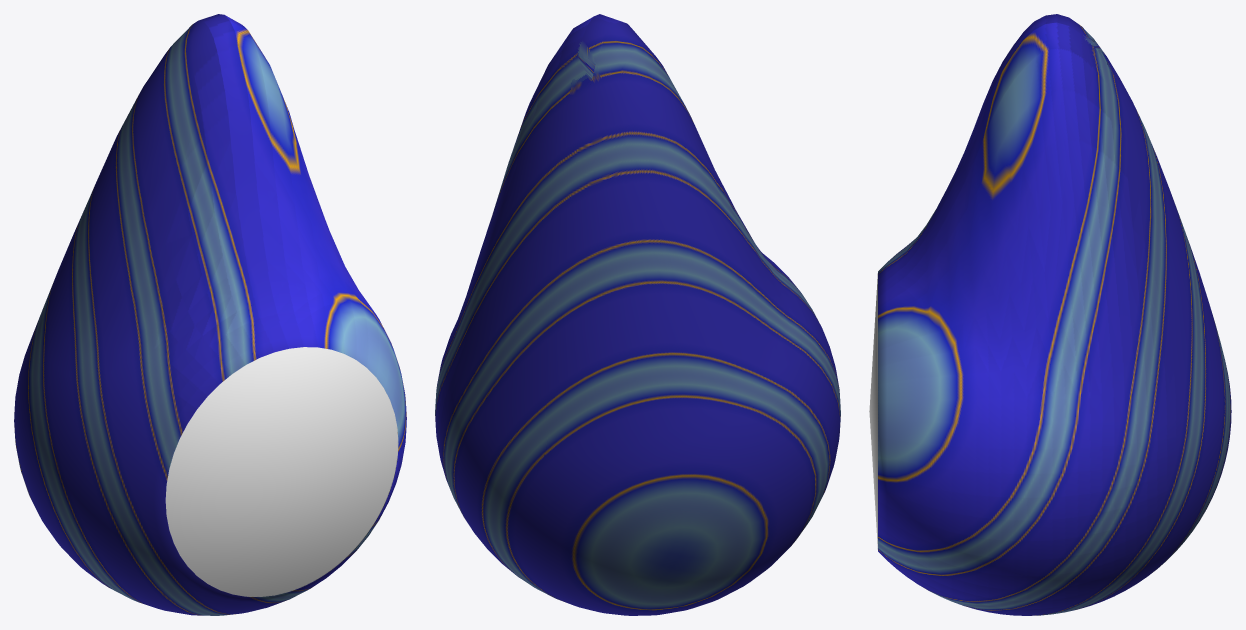
File: sad_memory.glb
3 renders of one model, left to right at view 1: azimuth 30°, elevation 25°; view 2: azimuth 150°, elevation 25°; view 3: azimuth 270°, elevation 25°, orthographic. The views are drawn at different scales.
Visible parts, largest first — view 1: sadmemoryc.001; view 2: sadmemoryc.001; view 3: sadmemoryc.001.
Boxes of the visible parts, x1,y1,x2,y2 form: sadmemoryc.001: (14, 14, 406, 615); sadmemoryc.001: (435, 14, 840, 615); sadmemoryc.001: (869, 14, 1231, 615).
Size of the model in its own units: 0.3098 by 0.4918 by 0.2743.
2 materials, 2 textured.
